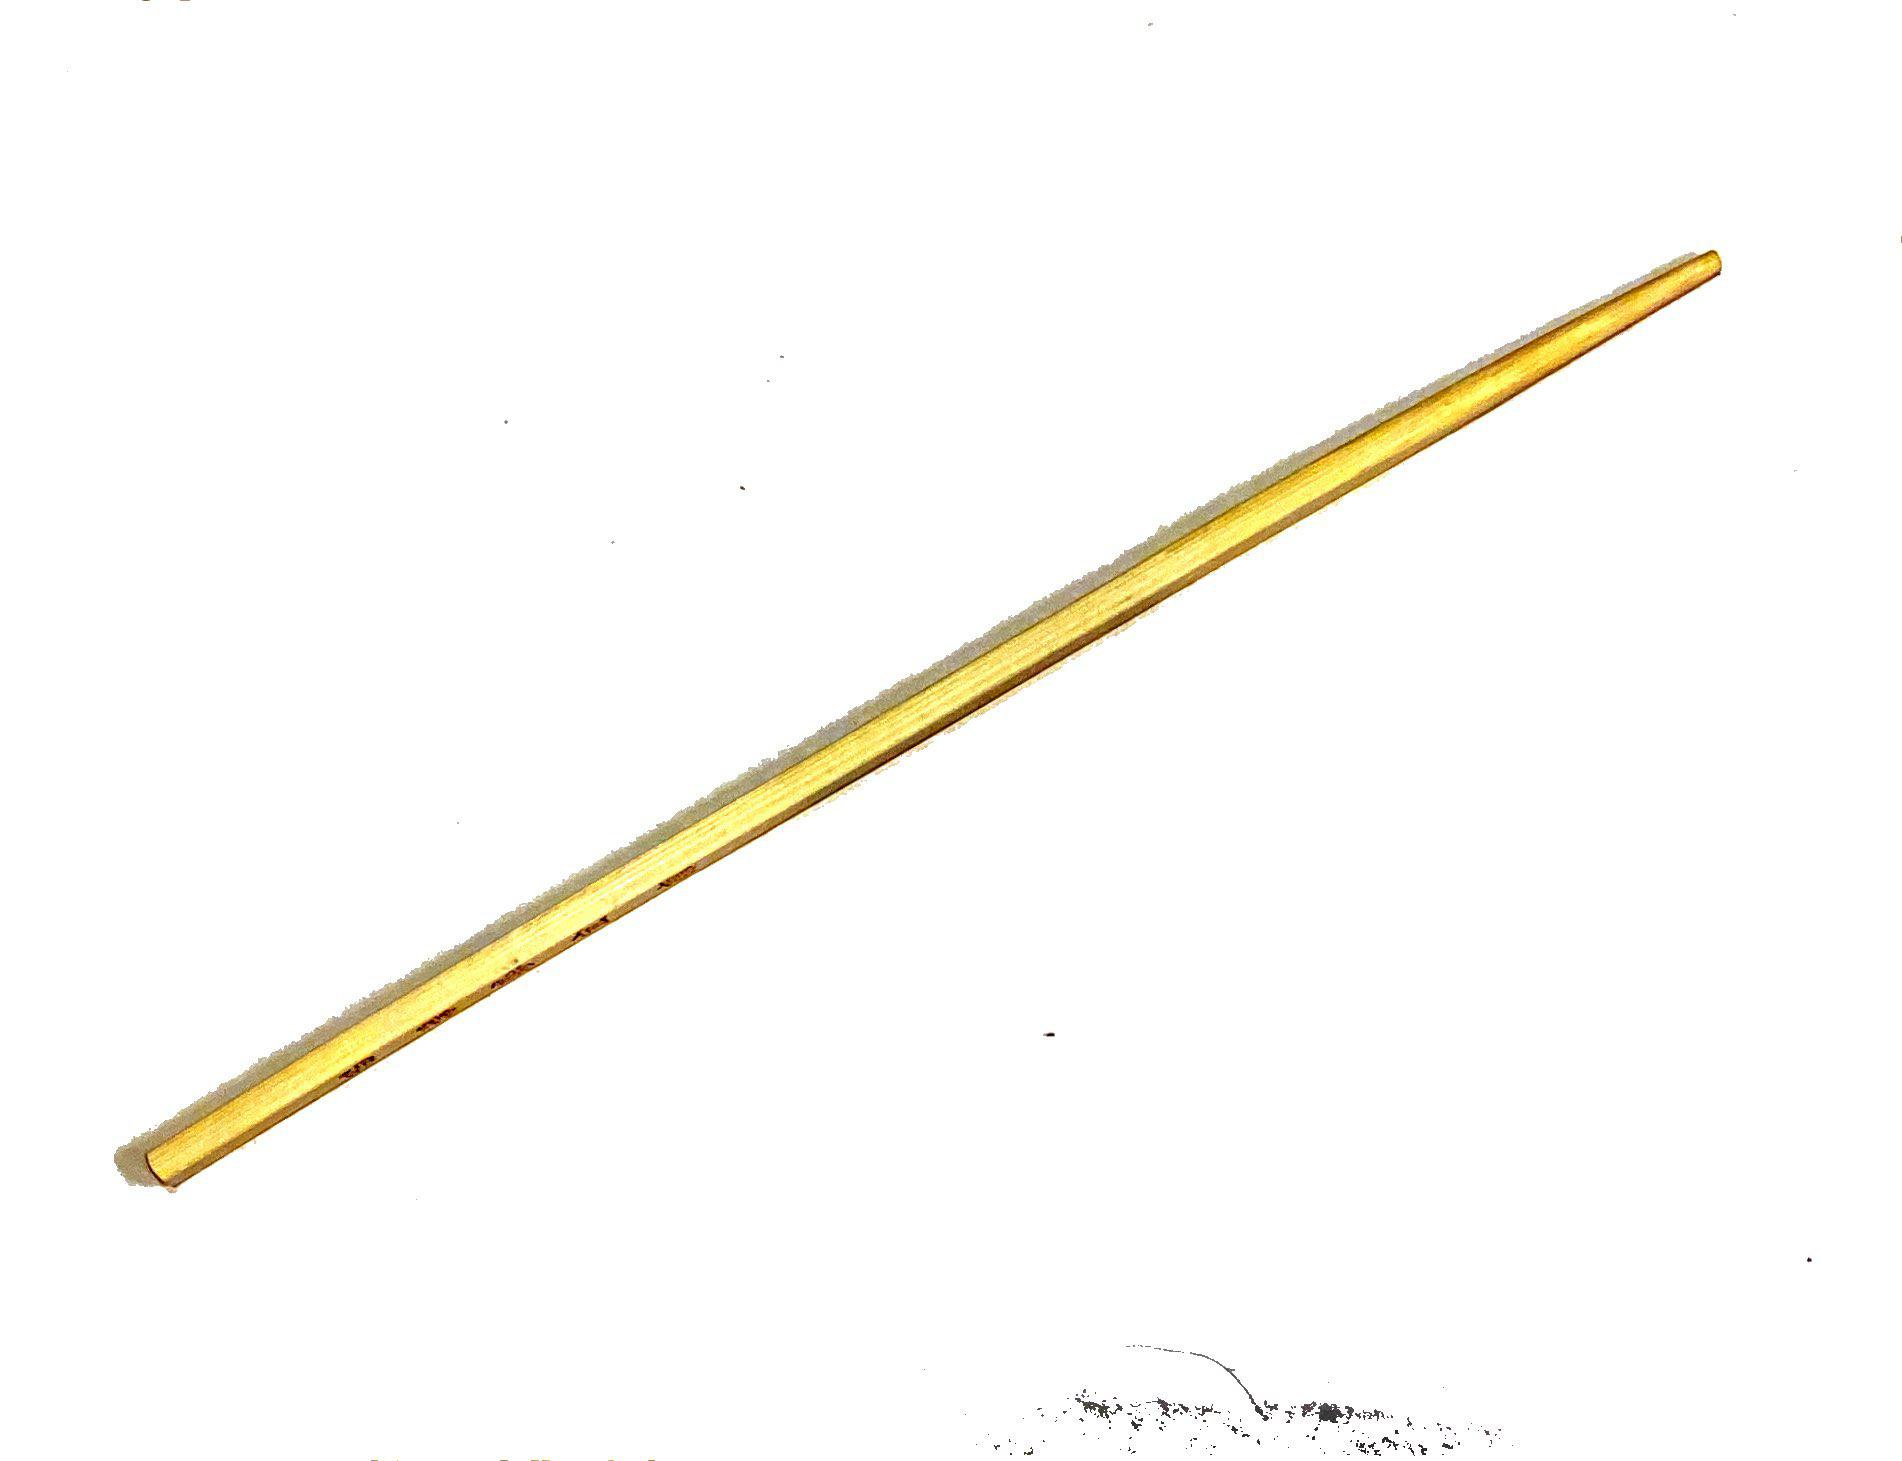Chopstick: (118, 124, 1835, 1317)
